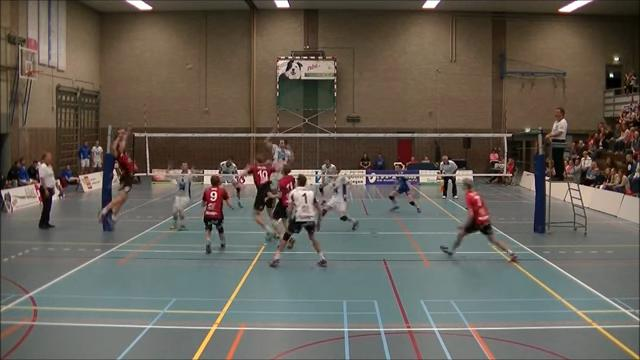attacco: (92, 120, 143, 232)
